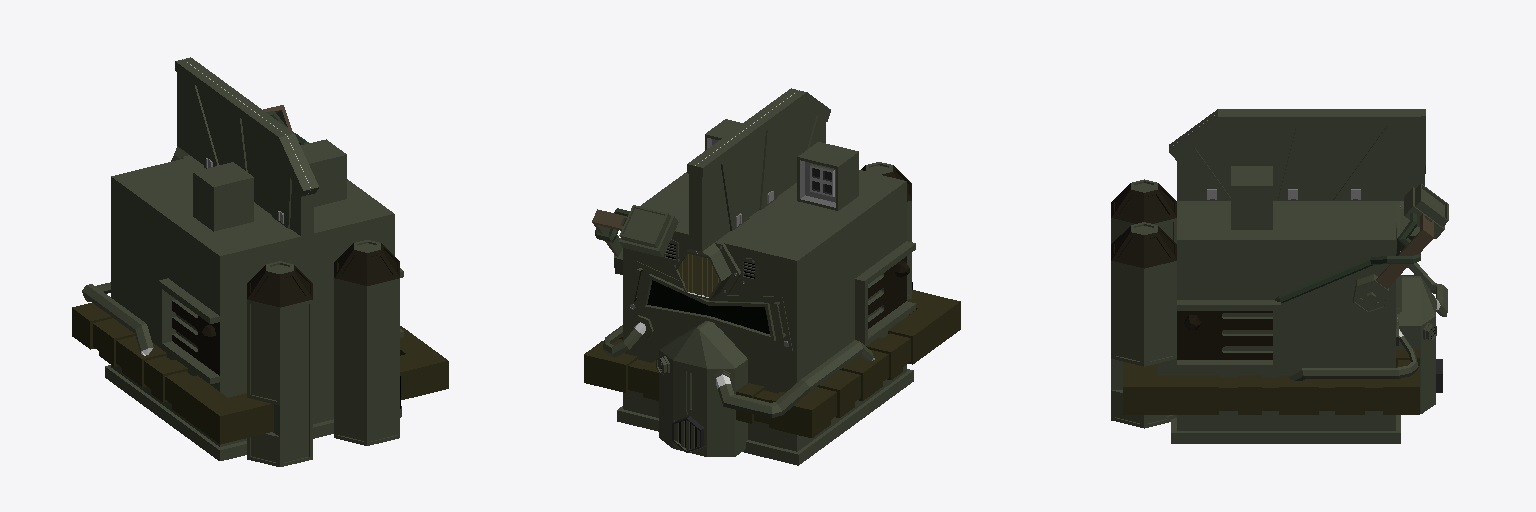
File: t50head.obj
3 renders of one model, left to right at view 1: azimuth 30°, elevation 25°; view 2: azimuth 150°, elevation 25°; view 3: azimuth 270°, elevation 25°, orthographic.
Parts seen in each view (by area): view 1: Mesh01, TubeR1, Mesh03, TubeR2, Mesh02; view 2: Mesh01, TubeR1, Mesh03, Group1, TubeR2, Group2; view 3: Mesh01, TubeR2, Group1, Mesh02.
Boxes of the visible parts, <box> form: Mesh01: <box>82,57,403,466</box>; TubeR1: <box>72,303,273,444</box>; Mesh03: <box>193,162,253,231</box>; TubeR2: <box>400,326,448,399</box>; Mesh02: <box>301,139,346,206</box>; Mesh01: <box>595,88,915,465</box>; TubeR1: <box>736,290,960,437</box>; Mesh03: <box>797,142,858,210</box>; Group1: <box>592,205,678,274</box>; TubeR2: <box>584,336,658,400</box>; Group2: <box>672,416,703,452</box>; Mesh01: <box>1111,109,1447,443</box>; TubeR2: <box>1123,350,1419,414</box>; Group1: <box>1353,184,1448,313</box>; Mesh02: <box>1231,166,1272,229</box>.
Bounding box in the file's own units: 1.25 × 1.49 × 1.59.